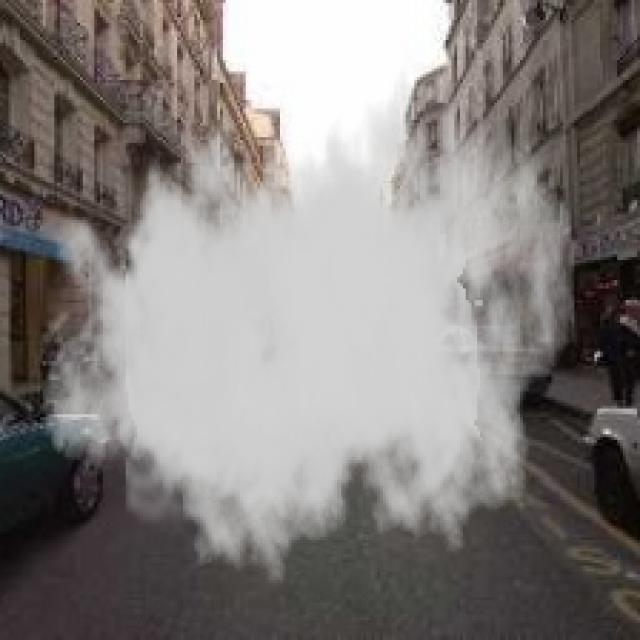smoke: (40, 43, 577, 594)
